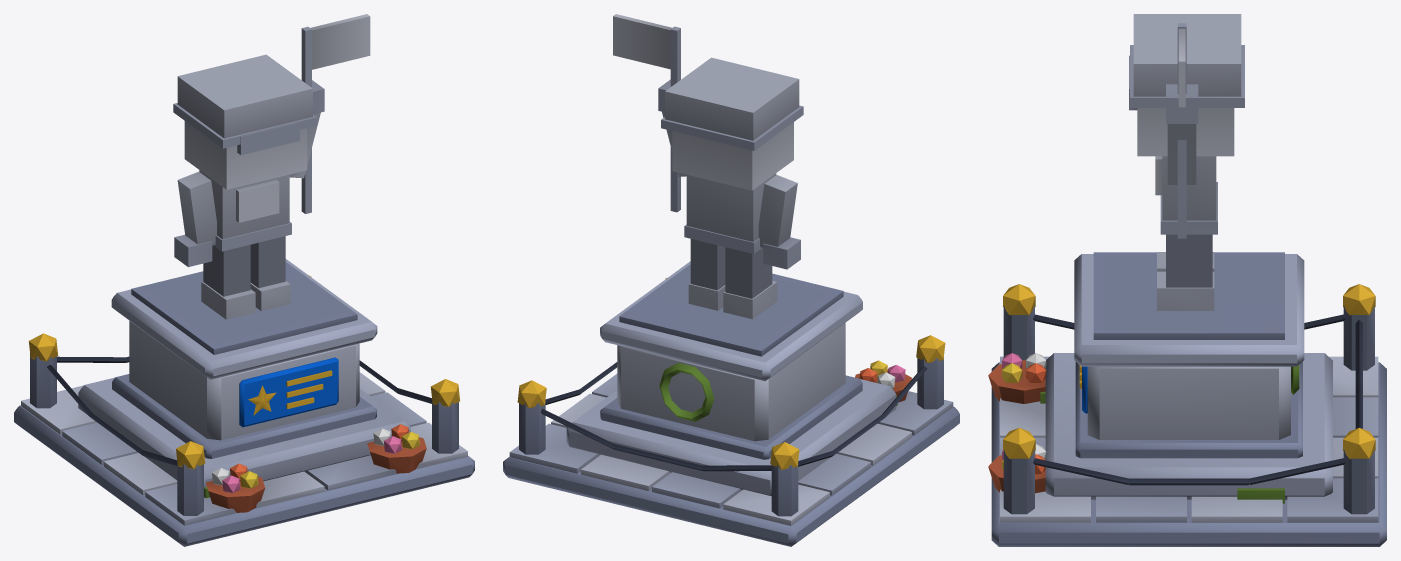
File: b_statue.glb
The picture shows the model from 3 angles, left to right: view 1: azimuth 30°, elevation 25°; view 2: azimuth 150°, elevation 25°; view 3: azimuth 270°, elevation 25°; orthographic projection. The views are drawn at different scales.
Visible parts, largest first — view 1: body, statue_default; view 2: body, statue_default; view 3: body, statue_default.
Boxes of the visible parts, bbox=[...] form: body: bbox=[14, 259, 474, 546]; statue_default: bbox=[173, 14, 370, 319]; body: bbox=[503, 261, 959, 546]; statue_default: bbox=[613, 14, 803, 319]; body: bbox=[988, 252, 1386, 546]; statue_default: bbox=[1129, 14, 1244, 310].
Bounding box in the file's own units: 3.3 × 4.38 × 3.33.
